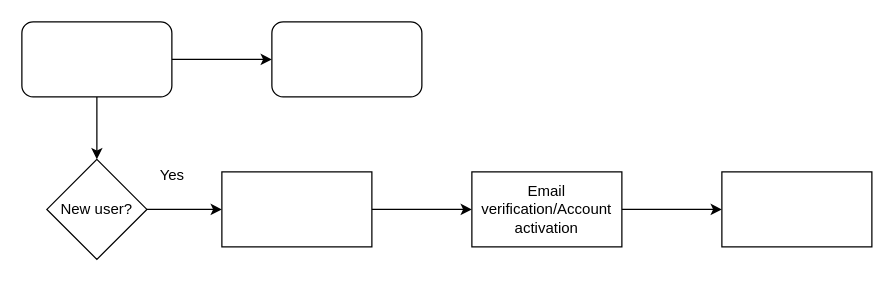
The diagram is 894 pixels wide and 281 high, and some of its shapes have lost their labels. The centre of each missing label's shape, as x and y in pixels:
"Sign up" belongs at point (296, 209).
"User" belongs at point (96, 59).
